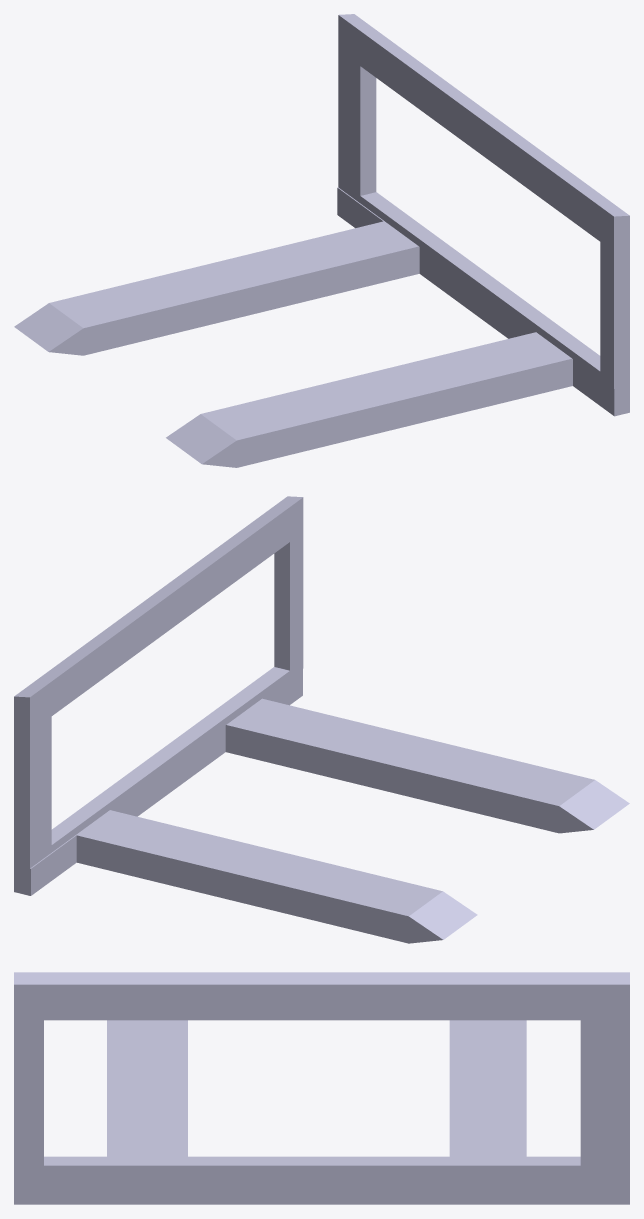
The model's file is first_robot_Body002.dae.
The picture shows the model from 3 angles, top to bottom: view 1: azimuth 30°, elevation 25°; view 2: azimuth 150°, elevation 25°; view 3: azimuth 270°, elevation 25°; orthographic projection. The views are drawn at different scales.
Parts seen in each view (by area): view 1: node0; view 2: node0; view 3: node0.
Boxes of the visible parts, x1,y1,x2,y2 form: node0: (14,14,629,467); node0: (14,496,629,943); node0: (14,972,629,1204).
Bounding box in the file's own units: 1.21 × 1.5 × 0.6006.
